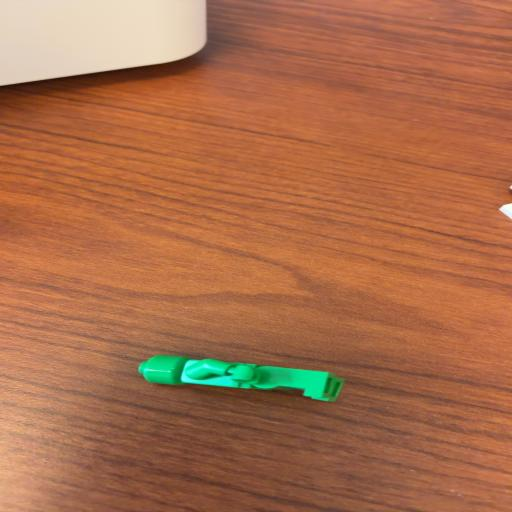UnoQ-minifig-detector: (139, 355, 344, 402)
